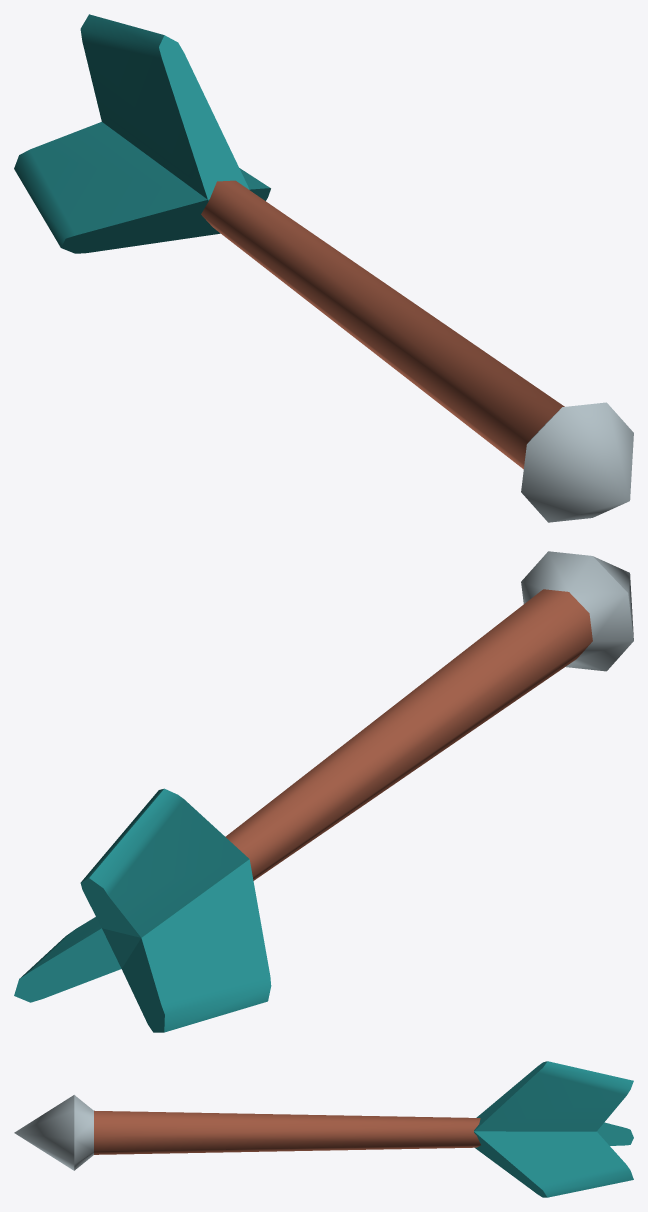
Rendered from arrow.glb.
The picture shows the model from 3 angles, top to bottom: view 1: azimuth 30°, elevation 25°; view 2: azimuth 150°, elevation 25°; view 3: azimuth 270°, elevation 25°; orthographic projection. The views are drawn at different scales.
Visible parts, largest first — view 1: arrow; view 2: arrow; view 3: arrow.
Boxes of the visible parts, x1=… form: arrow: x1=14, y1=14, x2=633, y2=522; arrow: x1=14, y1=551, x2=633, y2=1032; arrow: x1=14, y1=1061, x2=633, y2=1197.
Bounding box in the file's own units: 0.0258 × 0.023 × 0.1168.
